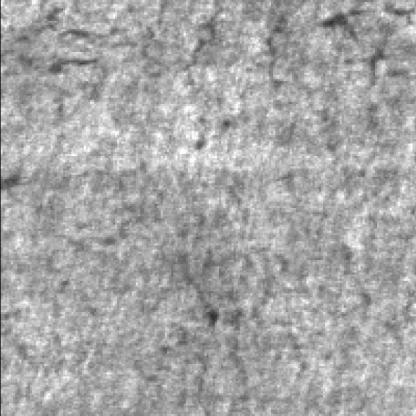crazing: (146, 235, 408, 416), (2, 4, 237, 162), (274, 6, 414, 245)
